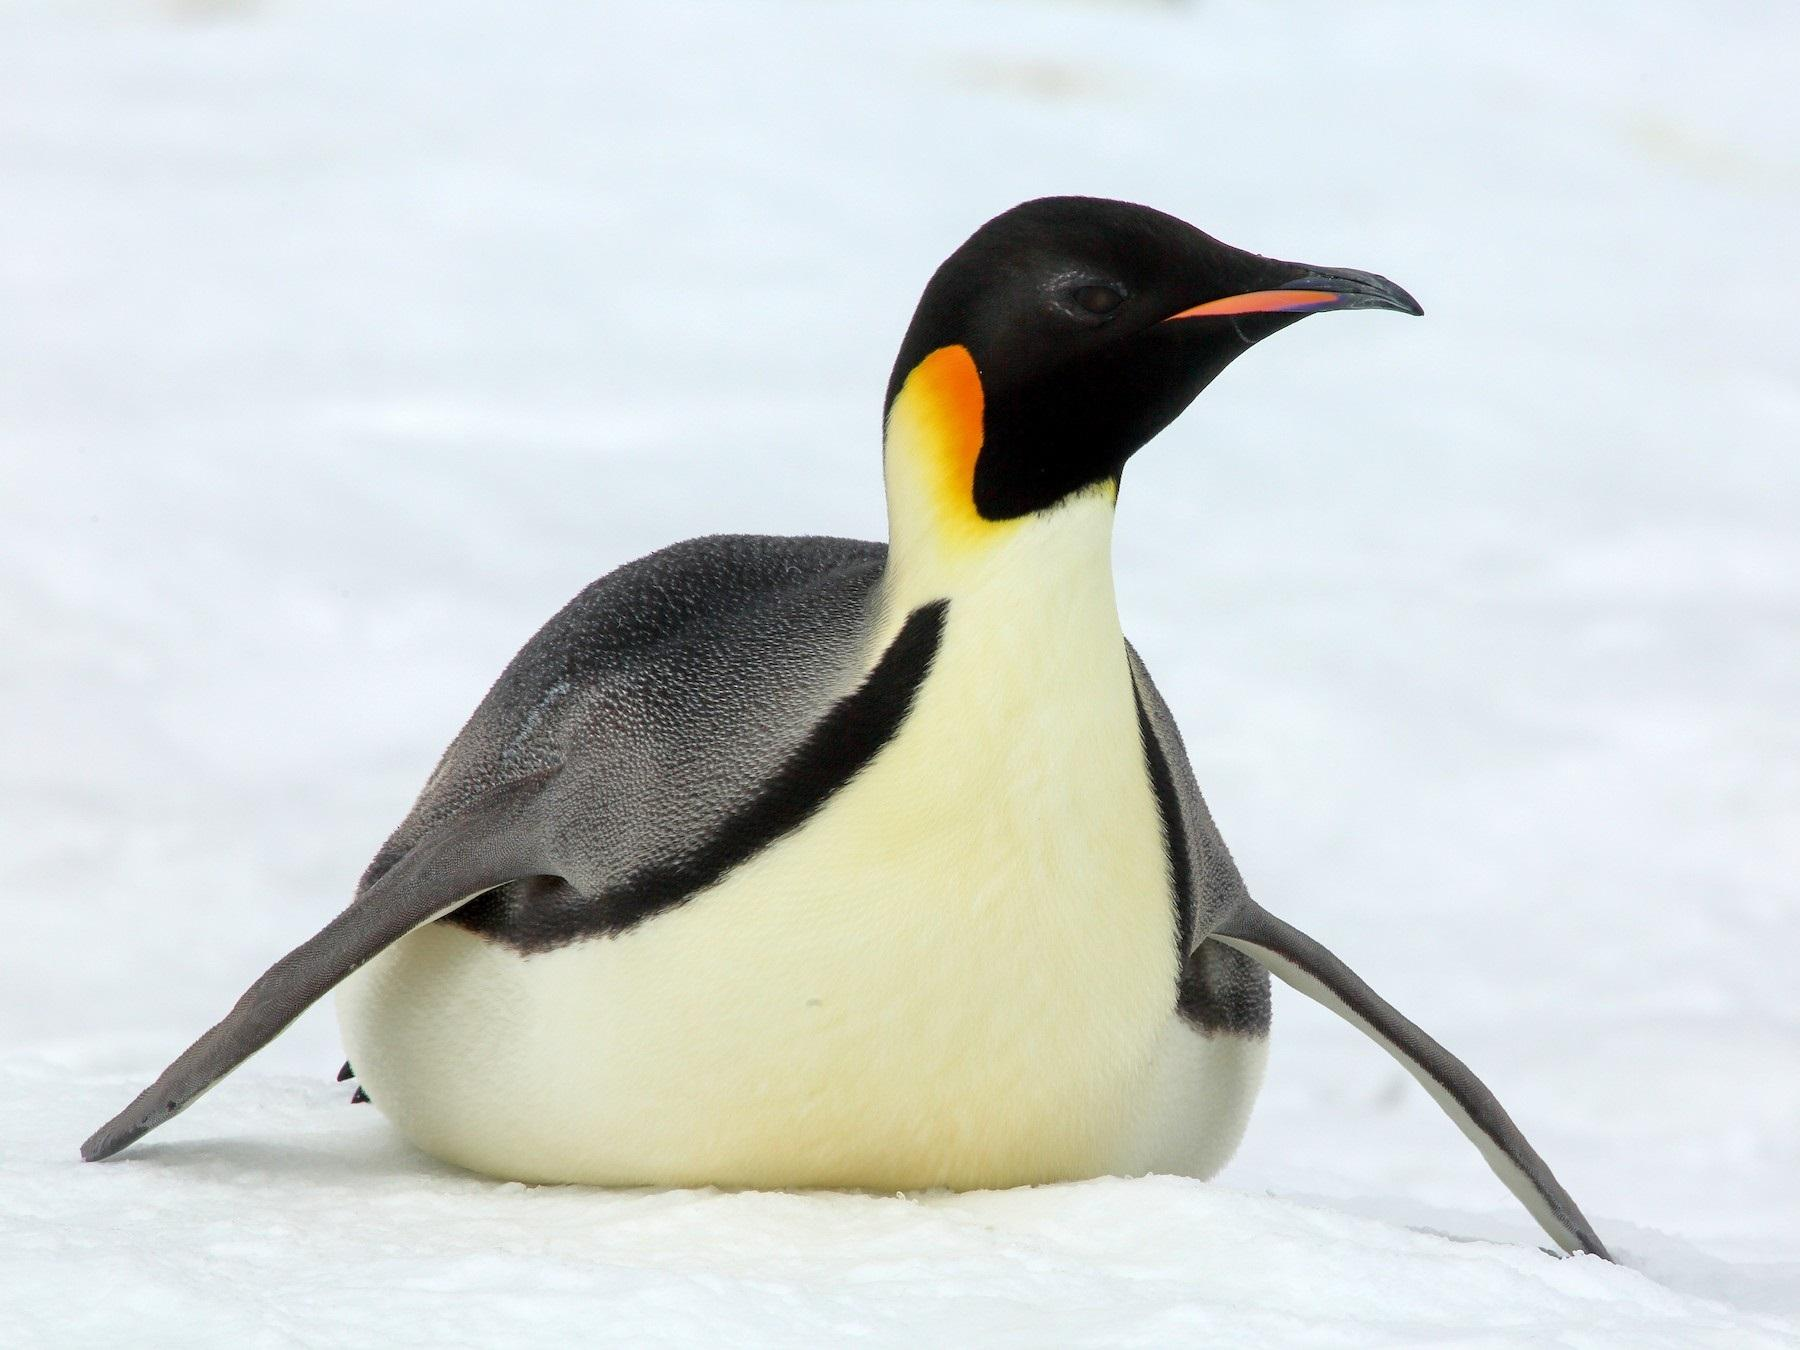emporer: (255, 180, 1475, 1258)
